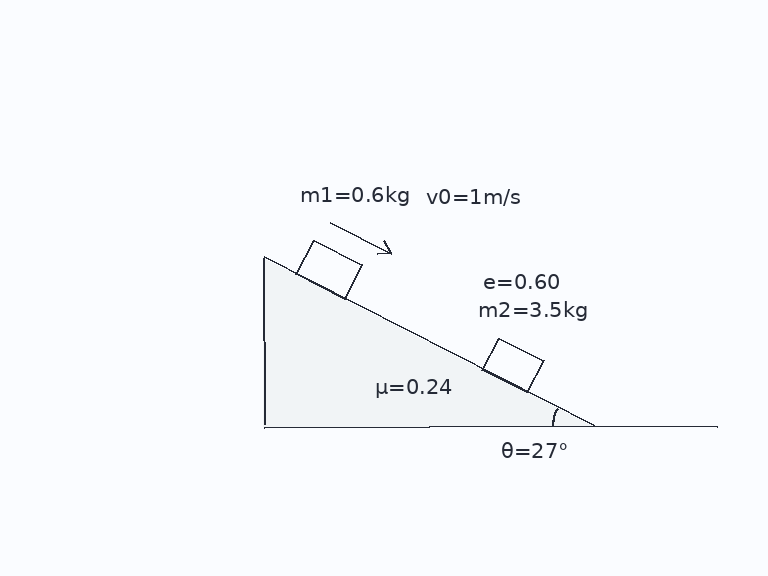block: (294, 238, 363, 301), (481, 336, 545, 394)
ramp: (261, 256, 595, 428)
